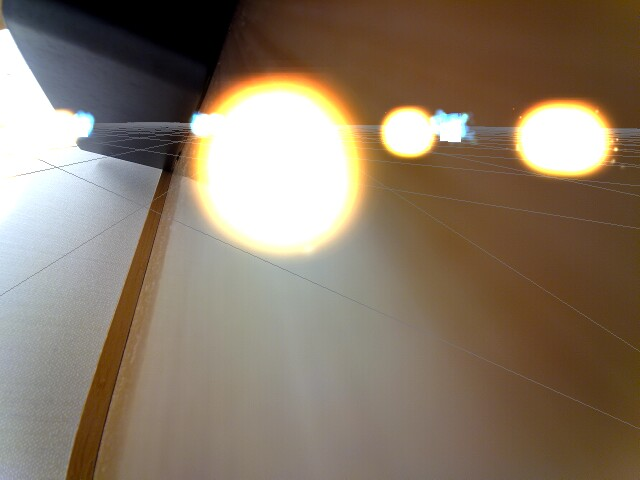firebig: (209, 67, 364, 259)
